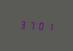one: (45, 20, 53, 32)
seven: (27, 19, 35, 30)
three: (18, 18, 26, 30)
zero: (36, 20, 44, 31)
